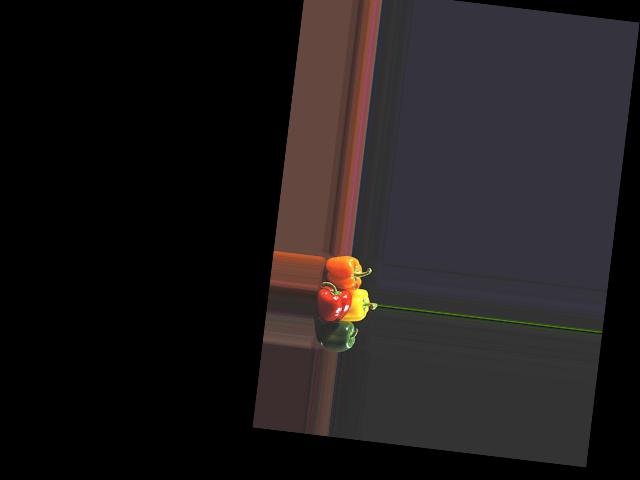bell_pepper: (316, 252, 369, 293)
